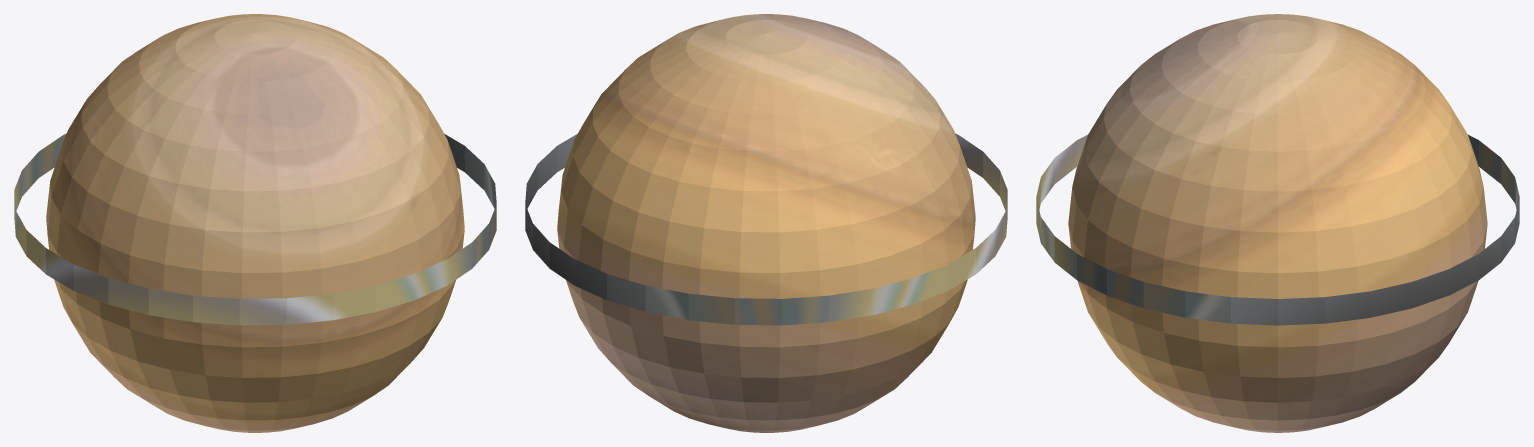
File: saturnwr.obj
3 views of the same model, side by side, from view 1: azimuth 30°, elevation 25°; view 2: azimuth 150°, elevation 25°; view 3: azimuth 270°, elevation 25° (orthographic).
Visible parts, largest first — view 1: Sphere, Circle; view 2: Sphere, Circle; view 3: Sphere, Circle.
Boxes of the visible parts, x1,y1,x2,y2 form: Sphere: (46, 14, 464, 432); Circle: (14, 133, 496, 325); Sphere: (557, 14, 975, 432); Circle: (525, 133, 1007, 325); Sphere: (1068, 14, 1487, 432); Circle: (1036, 134, 1519, 325).
Bounding box in the file's own units: 18.9 × 16.4 × 18.9.
Materials: 2 (2 with a texture image).
